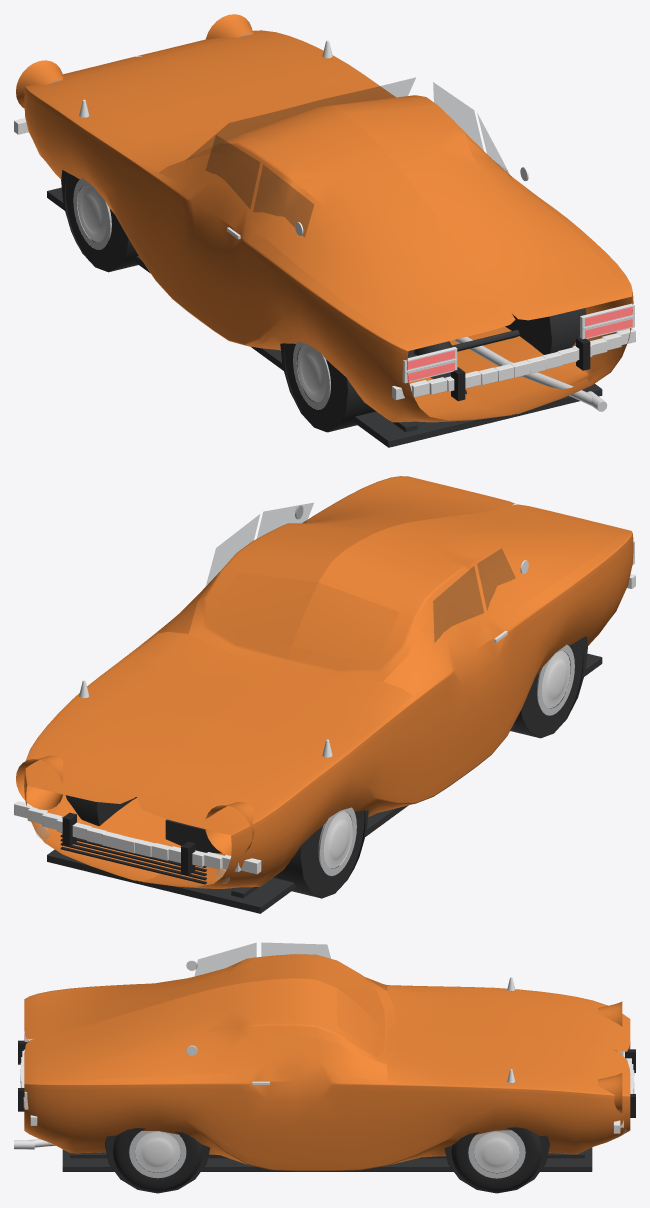
Rendered from Car_Datsun_240Z_1970s.glb.
3 renders of one model, top to bottom at view 1: azimuth 30°, elevation 25°; view 2: azimuth 150°, elevation 25°; view 3: azimuth 270°, elevation 25°, orthographic. The views are drawn at different scales.
Visible parts, largest first — view 1: BODY_Monocoque, PLATFORM_Chassis, GLASS_Greenhouse, BODY_Rear_Bumper, LIGHT_Taillight_Bezels, LIGHT_Headlamp_Scoops, LIGHT_Taillight_Lenses, PLATFORM_Exhaust, WHEEL_FR_Hubcap, WHEEL_RR_Hubcap, BODY_Rear_Bumper_Guards, WHEEL_FR_SteelRim (+1 smaller); view 2: BODY_Monocoque, PLATFORM_Chassis, GLASS_Greenhouse, BODY_Front_Bumper, LIGHT_Headlamp_Scoops, BODY_Front_Grille, WHEEL_FR_Hubcap, WHEEL_RR_Hubcap, BODY_Front_Bumper_Guards, WHEEL_FR_SteelRim, WHEEL_RR_SteelRim; view 3: BODY_Monocoque, PLATFORM_Chassis, WHEEL_FL_Tire, WHEEL_RL_Tire, GLASS_Greenhouse, WHEEL_FL_Hubcap, WHEEL_RL_Hubcap, LIGHT_Headlamp_Scoops, WHEEL_FL_SteelRim, WHEEL_RL_SteelRim, BODY_Exterior_Jewelry.
Boxes of the visible parts, x1,y1,x2,y2 form: BODY_Monocoque: (24, 30, 633, 422); PLATFORM_Chassis: (47, 170, 602, 447); GLASS_Greenhouse: (186, 77, 510, 236); BODY_Rear_Bumper: (392, 328, 635, 400); LIGHT_Taillight_Bezels: (402, 303, 634, 383); LIGHT_Headlamp_Scoops: (16, 14, 253, 108); LIGHT_Taillight_Lenses: (407, 307, 632, 381); PLATFORM_Exhaust: (453, 337, 607, 411); WHEEL_FR_Hubcap: (77, 185, 106, 242); WHEEL_RR_Hubcap: (297, 345, 326, 402); BODY_Rear_Bumper_Guards: (451, 337, 590, 401); WHEEL_FR_SteelRim: (73, 178, 111, 249); BODY_Monocoque: (24, 476, 633, 888); PLATFORM_Chassis: (47, 636, 602, 913); GLASS_Greenhouse: (206, 503, 515, 642); BODY_Front_Bumper: (14, 801, 261, 874); LIGHT_Headlamp_Scoops: (16, 755, 254, 855); BODY_Front_Grille: (60, 832, 206, 884); WHEEL_FR_Hubcap: (323, 811, 352, 868); WHEEL_RR_Hubcap: (541, 651, 570, 707); BODY_Front_Bumper_Guards: (62, 812, 195, 875); WHEEL_FR_SteelRim: (318, 807, 356, 876); WHEEL_RR_SteelRim: (537, 644, 574, 715); BODY_Monocoque: (24, 954, 630, 1171); PLATFORM_Chassis: (62, 1134, 592, 1193); WHEEL_FL_Tire: (451, 1127, 542, 1192); WHEEL_RL_Tire: (113, 1128, 202, 1191); GLASS_Greenhouse: (195, 943, 330, 975); WHEEL_FL_Hubcap: (474, 1132, 519, 1172); WHEEL_RL_Hubcap: (135, 1131, 180, 1172); LIGHT_Headlamp_Scoops: (598, 1001, 622, 1113); WHEEL_FL_SteelRim: (468, 1130, 525, 1178); WHEEL_RL_SteelRim: (129, 1131, 186, 1178); BODY_Exterior_Jewelry: (186, 960, 515, 1084).
Bounding box in the file's own units: 1.64 × 1.28 × 4.23.
